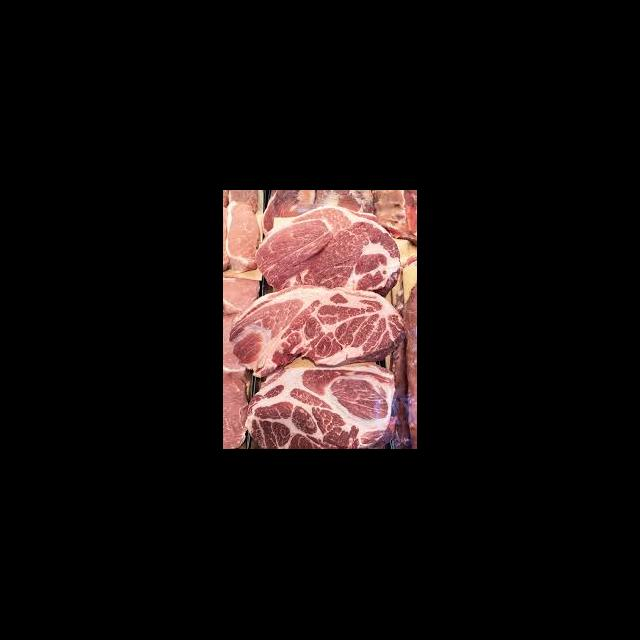beef: (229, 284, 406, 379), (255, 205, 401, 295), (244, 365, 395, 450)
